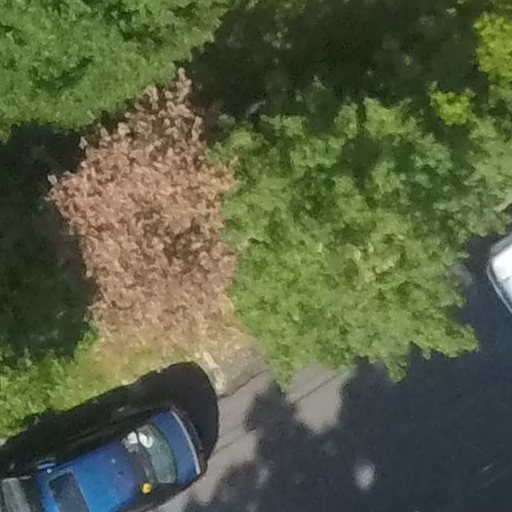car: (1, 383, 247, 512)
